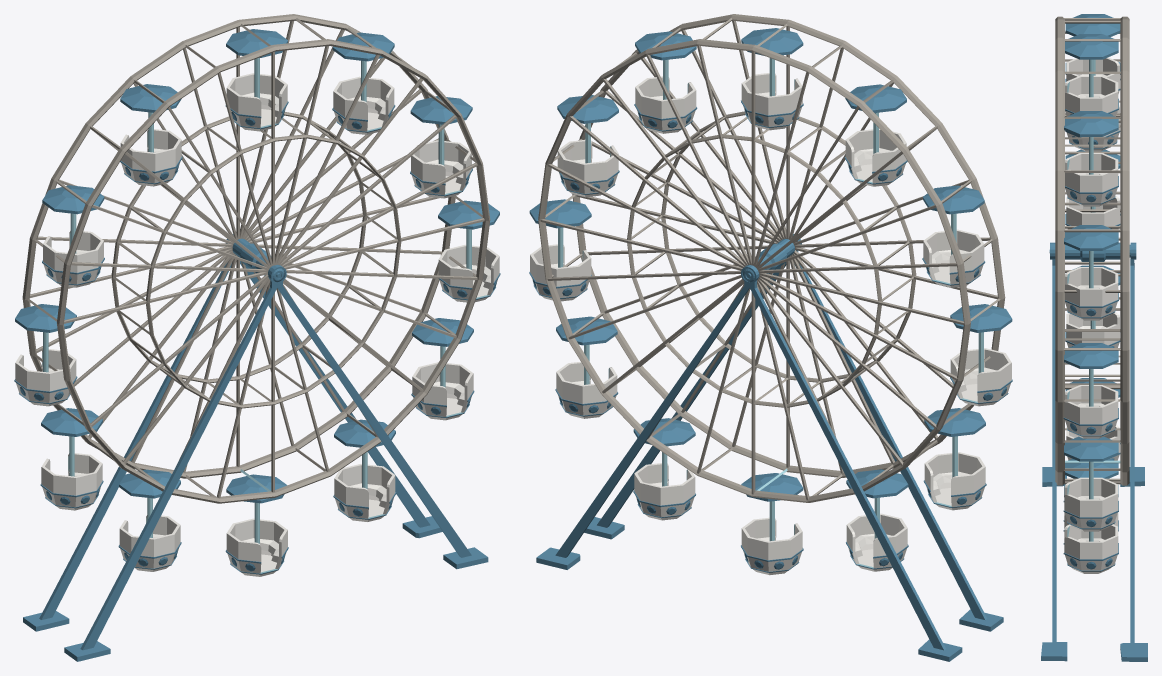
File: ferris_wheel.glb
The picture shows the model from 3 angles, left to right: view 1: azimuth 30°, elevation 25°; view 2: azimuth 150°, elevation 25°; view 3: azimuth 270°, elevation 25°; orthographic projection. The views are drawn at different scales.
Parts seen in each view (by area): view 1: ferris_wheel; view 2: ferris_wheel; view 3: ferris_wheel.
Part boxes in pixels (left/top/right/bottom): ferris_wheel: left=14, top=14, right=500, bottom=661; ferris_wheel: left=529, top=14, right=1012, bottom=661; ferris_wheel: left=1041, top=14, right=1147, bottom=661.
Size of the model in its own units: 26.57 by 30 by 5.49.
